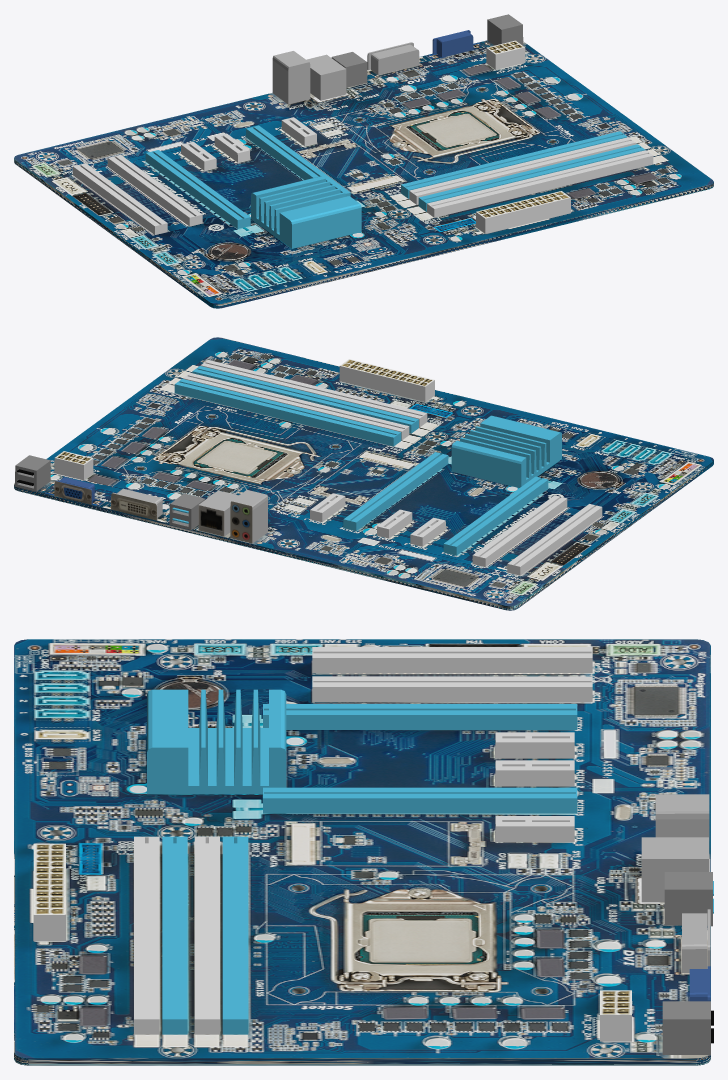
File: cartemerebleue.fbx
3 renders of one model, top to bottom at view 1: azimuth 30°, elevation 25°; view 2: azimuth 150°, elevation 25°; view 3: azimuth 270°, elevation 25°, orthographic. The views are drawn at different scales.
Parts seen in each view (by area): view 1: Cube, Cube.009, Cube.001, Cube.010, Cube.002, Cube.006, Cube.003, Cube.004, Cube.007, Cube.008, Cube.016, Cube.005 (+9 smaller); view 2: Cube, Cube.009, Cube.003, Cube.010, Cube.004, Cube.005, Cube.006, Cube.001, Cube.002, Cube.007, Cube.008, Cube.016 (+9 smaller); view 3: Cube, Cube.009, Cube.005, Cube.006, Cube.007, Cube.008, Cube.003, Cube.001, Cube.004, Cube.002, Cube.010, Cube.018 (+8 smaller).
Boxes of the visible parts, x1=… form: Cube: x1=14, y1=40, x2=713, y2=308; Cube.009: x1=251, y1=176, x2=361, y2=248; Cube.001: x1=427, y1=150, x2=653, y2=217; Cube.010: x1=476, y1=191, x2=570, y2=233; Cube.002: x1=409, y1=137, x2=635, y2=204; Cube.006: x1=145, y1=150, x2=250, y2=228; Cube.003: x1=401, y1=131, x2=627, y2=198; Cube.004: x1=418, y1=144, x2=644, y2=211; Cube.007: x1=107, y1=154, x2=202, y2=226; Cube.008: x1=73, y1=163, x2=167, y2=234; Cube.016: x1=272, y1=51, x2=310, y2=104; Cube.005: x1=246, y1=125, x2=350, y2=196; Cube: x1=14, y1=337, x2=713, y2=610; Cube.009: x1=451, y1=415, x2=561, y2=487; Cube.003: x1=174, y1=379, x2=401, y2=446; Cube.010: x1=339, y1=359, x2=434, y2=401; Cube.004: x1=192, y1=366, x2=418, y2=433; Cube.005: x1=343, y1=452, x2=448, y2=531; Cube.006: x1=443, y1=476, x2=548, y2=555; Cube.001: x1=200, y1=360, x2=427, y2=427; Cube.002: x1=183, y1=373, x2=409, y2=440; Cube.007: x1=472, y1=495, x2=567, y2=567; Cube.008: x1=507, y1=504, x2=602, y2=575; Cube.016: x1=230, y1=490, x2=267, y2=543; Cube: x1=14, y1=639, x2=710, y2=1065; Cube.009: x1=147, y1=689, x2=286, y2=794; Cube.005: x1=263, y1=787, x2=577, y2=813; Cube.006: x1=263, y1=704, x2=577, y2=729; Cube.007: x1=312, y1=676, x2=592, y2=701; Cube.008: x1=312, y1=647, x2=592, y2=672; Cube.003: x1=222, y1=836, x2=248, y2=1034; Cube.001: x1=134, y1=836, x2=159, y2=1034; Cube.004: x1=162, y1=836, x2=187, y2=1034; Cube.002: x1=194, y1=836, x2=219, y2=1034; Cube.010: x1=33, y1=843, x2=65, y2=941; Cube.018: x1=641, y1=837, x2=708, y2=902.
Size of the model in its own units: 202 by 15.94 by 142.
Materials: 31 (15 with a texture image).
